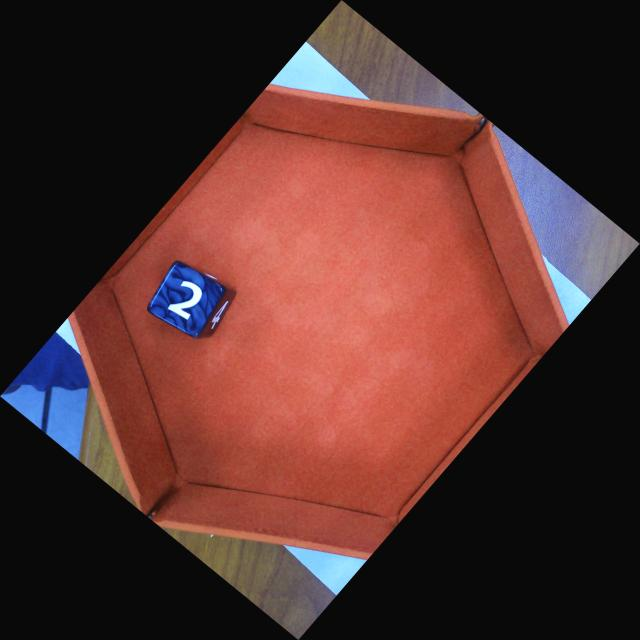dice: (147, 261, 226, 339)
